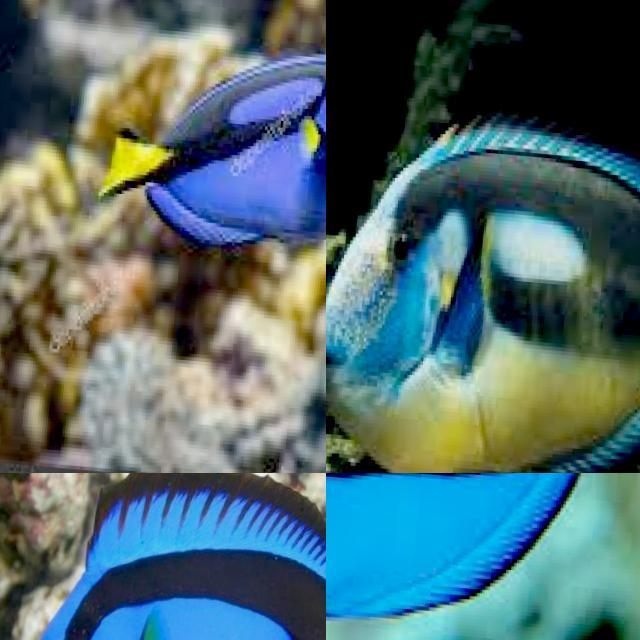BlueTang: (326, 128, 634, 473), (39, 486, 326, 640), (111, 55, 326, 247), (326, 473, 578, 619)
